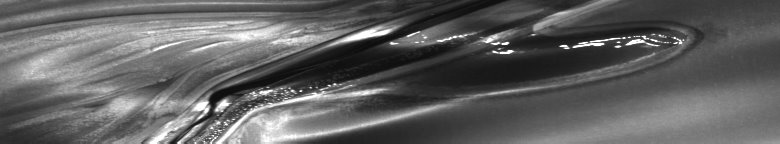ke: (4, 4, 690, 136)
